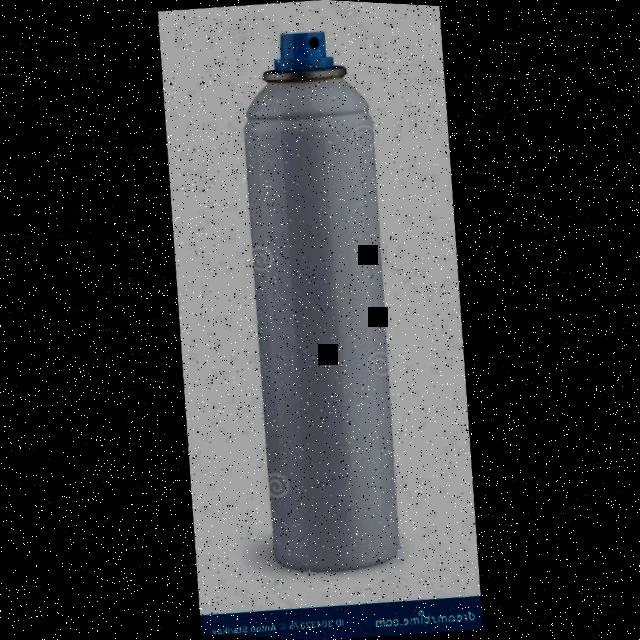chemical_spray_can: (180, 10, 456, 598)
